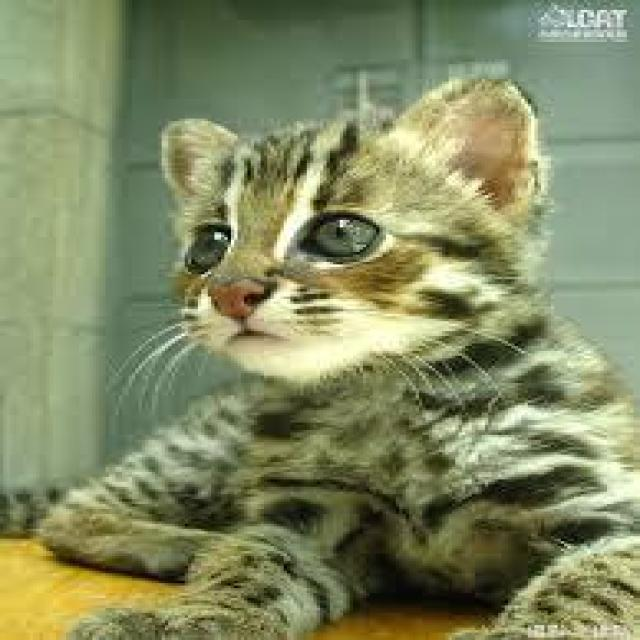leopard: (112, 59, 603, 640)
